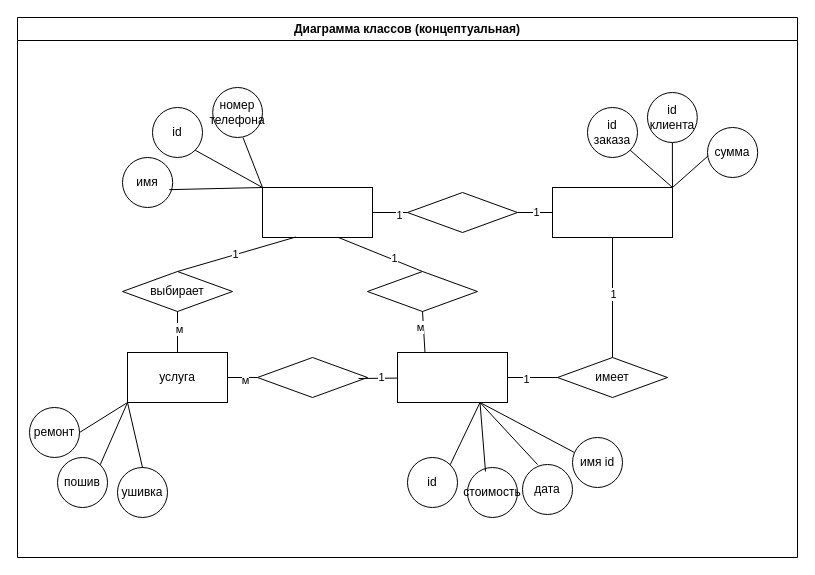
Some shapes in this 815 by 575 pixel diagram are drawn without their labels. Here are the shapes that lost their labels. From the top down, the centre of each, then its label:
At point 317,212: "клиент".
At point 462,212: "проводит".
At point 612,212: "оплата".
At point 422,291: "оформляет".
At point 312,377: "состоит из".
At point 452,377: "заказ".
